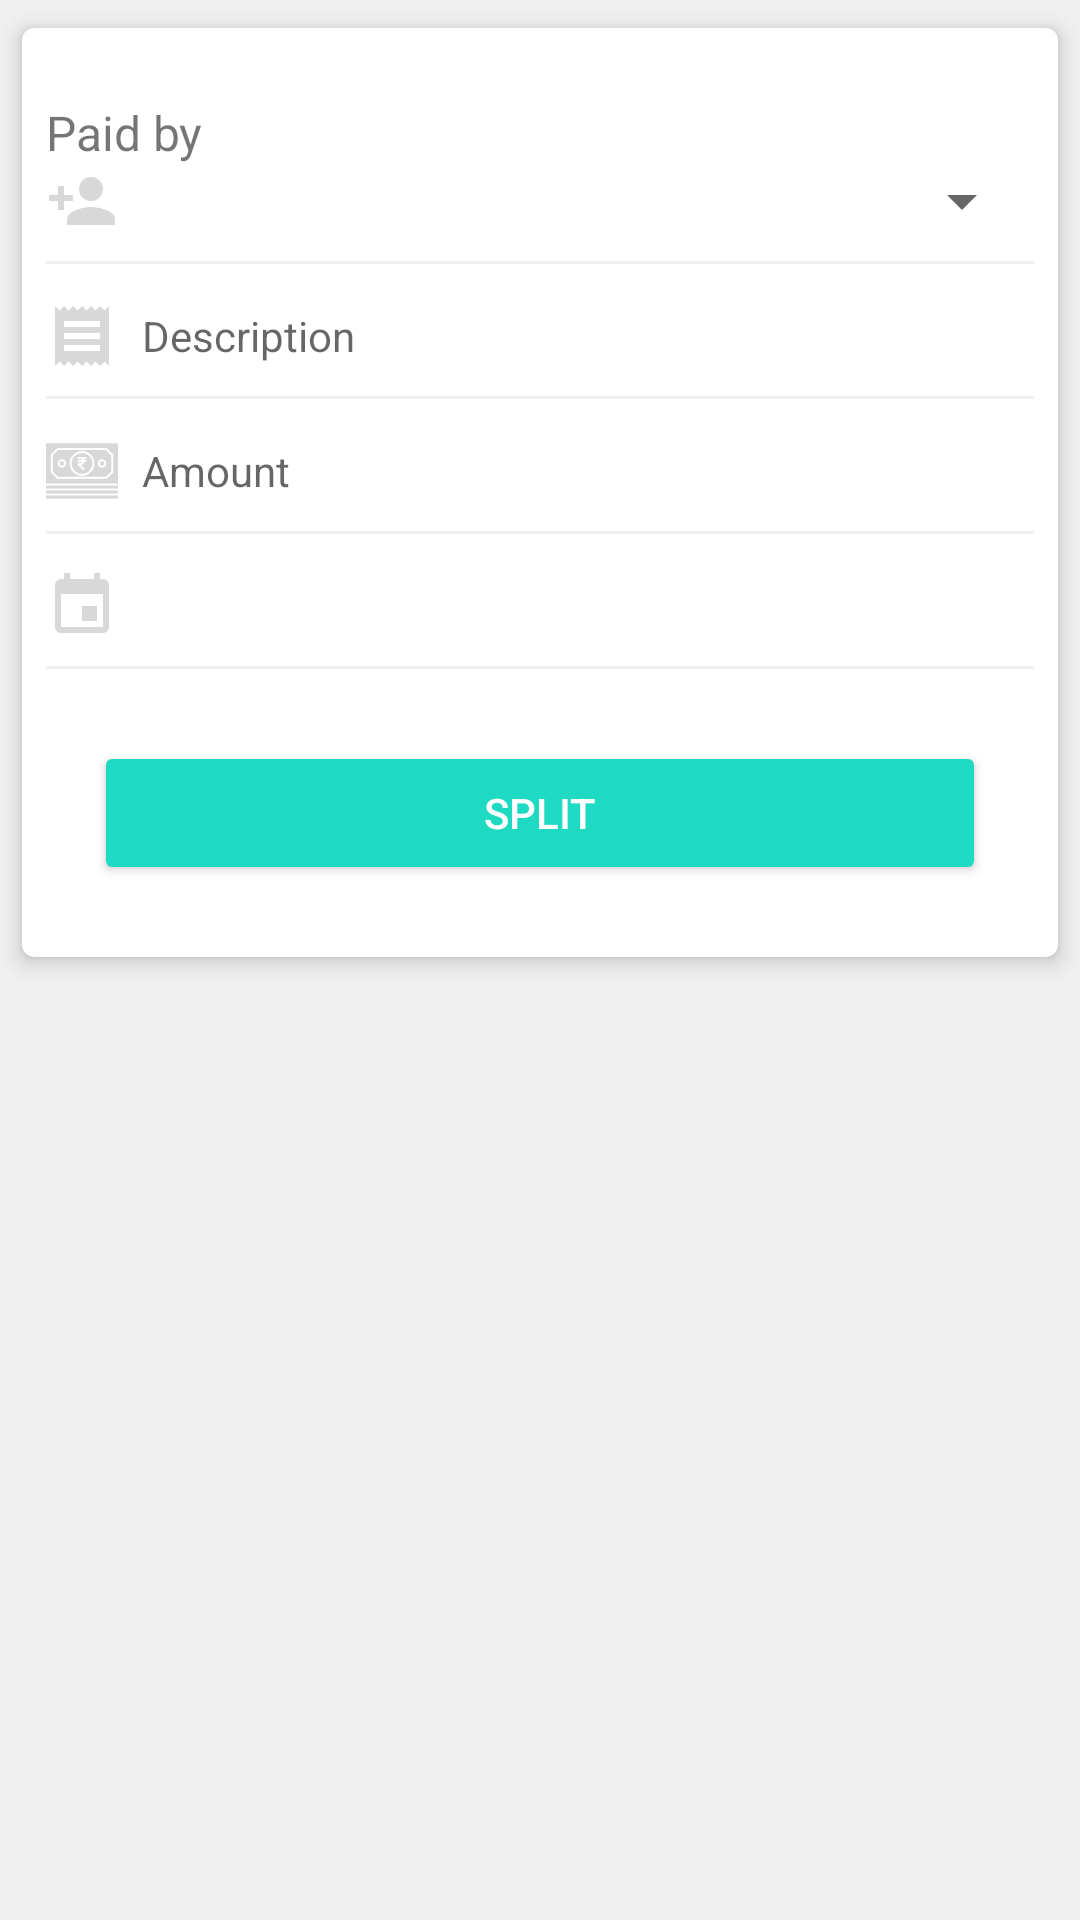

Where to tap for icons on this 1080×1920 app screen, as (x=x, y=y):
member: (x=82, y=201)
